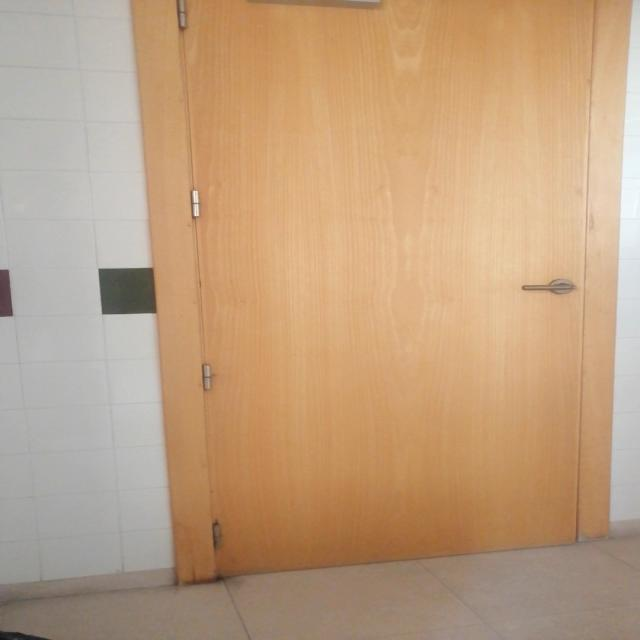door_handle: (517, 283, 579, 292)
